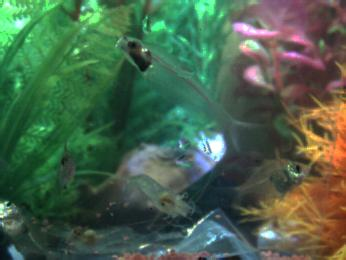X-ray fish: (227, 157, 313, 205), (1, 196, 50, 258), (53, 137, 79, 195)
glassfish: (113, 34, 262, 153)
siberian prawn: (117, 171, 201, 227), (45, 224, 157, 254)
